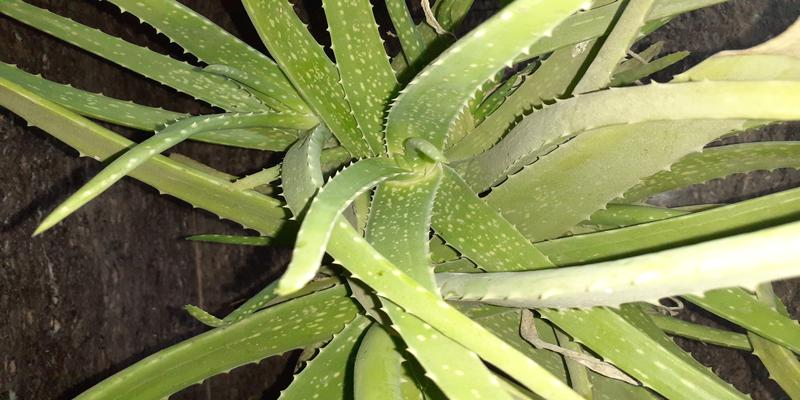Aloevera: (155, 53, 747, 390)
